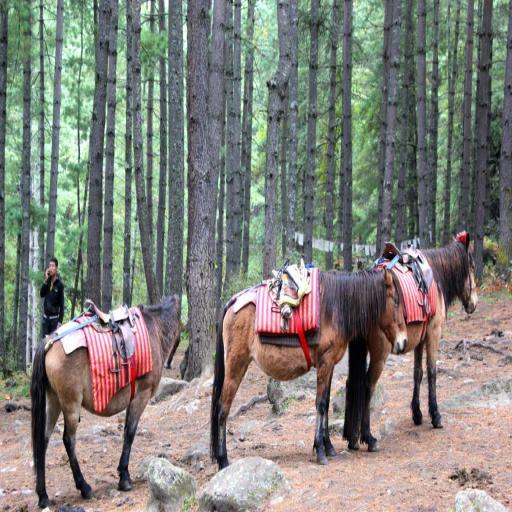Horse: (206, 262, 409, 470), (29, 294, 183, 508), (342, 229, 476, 453)
